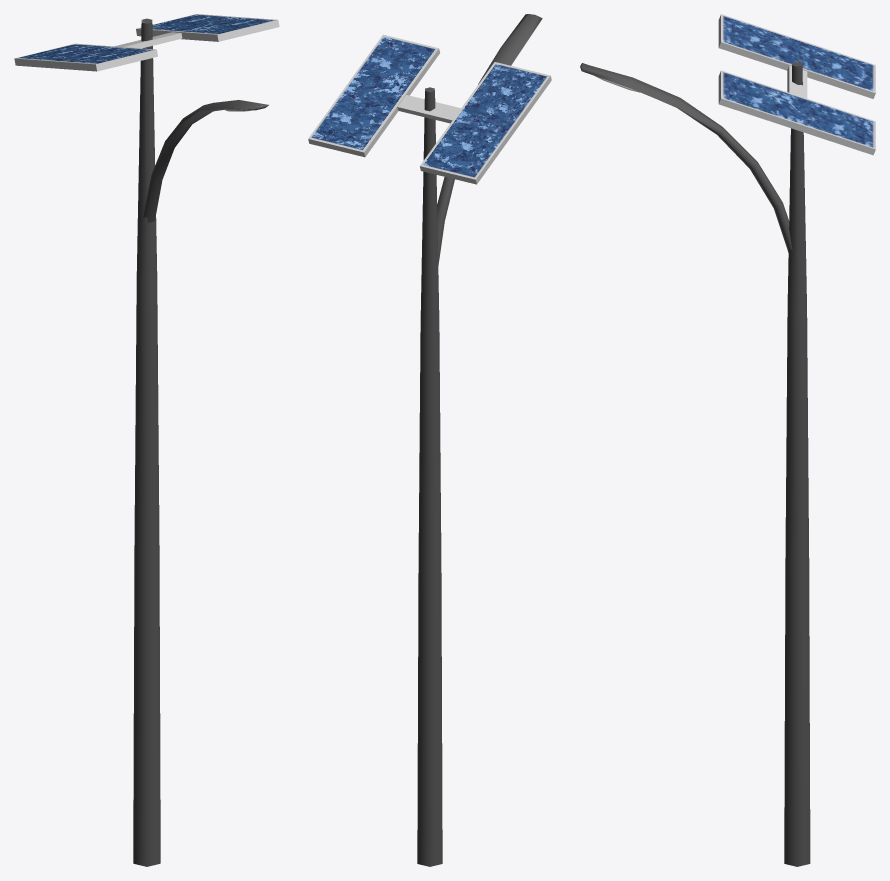
File: StreetLamp_Solar.fbx
3 renders of one model, left to right at view 1: azimuth 30°, elevation 25°; view 2: azimuth 150°, elevation 25°; view 3: azimuth 270°, elevation 25°, orthographic. The views are drawn at different scales.
Parts seen in each view (by area): view 1: Base, Panel; view 2: Base, Panel; view 3: Base, Panel.
Part boxes in pixels (x1,y1,x2,y2): Base: [133, 18, 268, 866]; Panel: [14, 14, 279, 71]; Base: [417, 14, 542, 866]; Panel: [308, 34, 551, 184]; Base: [580, 61, 810, 866]; Panel: [718, 14, 875, 155].
Size of the model in its own units: 58.23 by 258 by 86.14.
